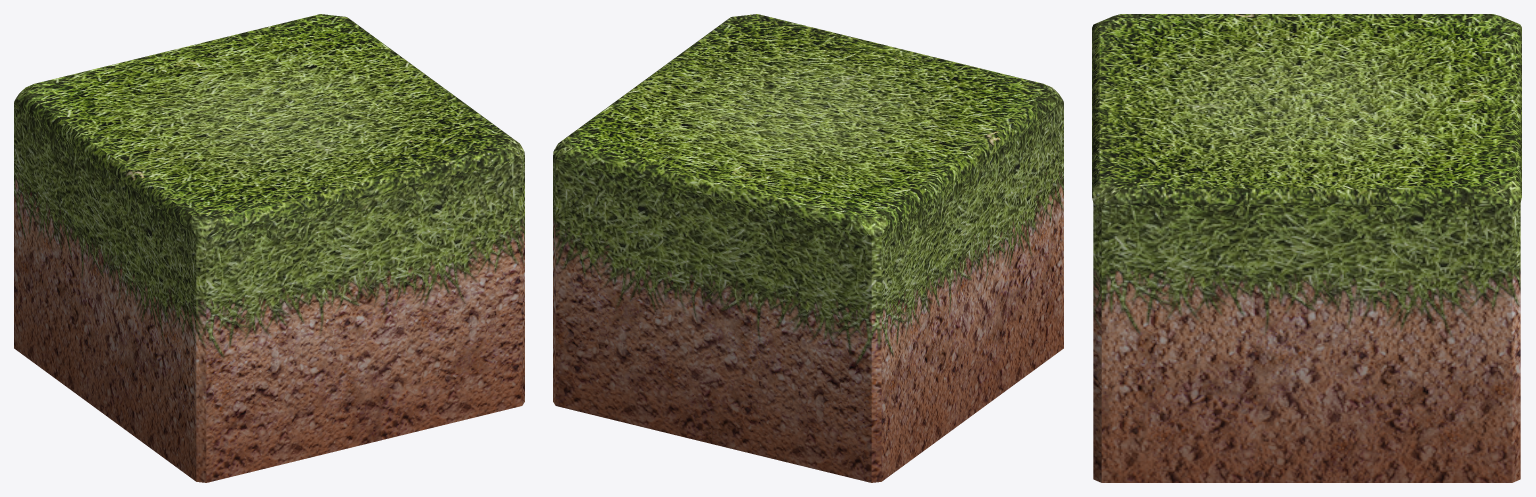
File: box_ohneZaun.fbx
3 renders of one model, left to right at view 1: azimuth 30°, elevation 25°; view 2: azimuth 150°, elevation 25°; view 3: azimuth 270°, elevation 25°, orthographic. The views are drawn at different scales.
Visible parts, largest first — view 1: Box; view 2: Box; view 3: Box.
Part boxes in pixels (x1=…): Box: x1=14, y1=14, x2=524, y2=482; Box: x1=553, y1=14, x2=1063, y2=482; Box: x1=1092, y1=14, x2=1521, y2=482.
Size of the model in its own units: 4.02 by 3.01 by 4.02.
